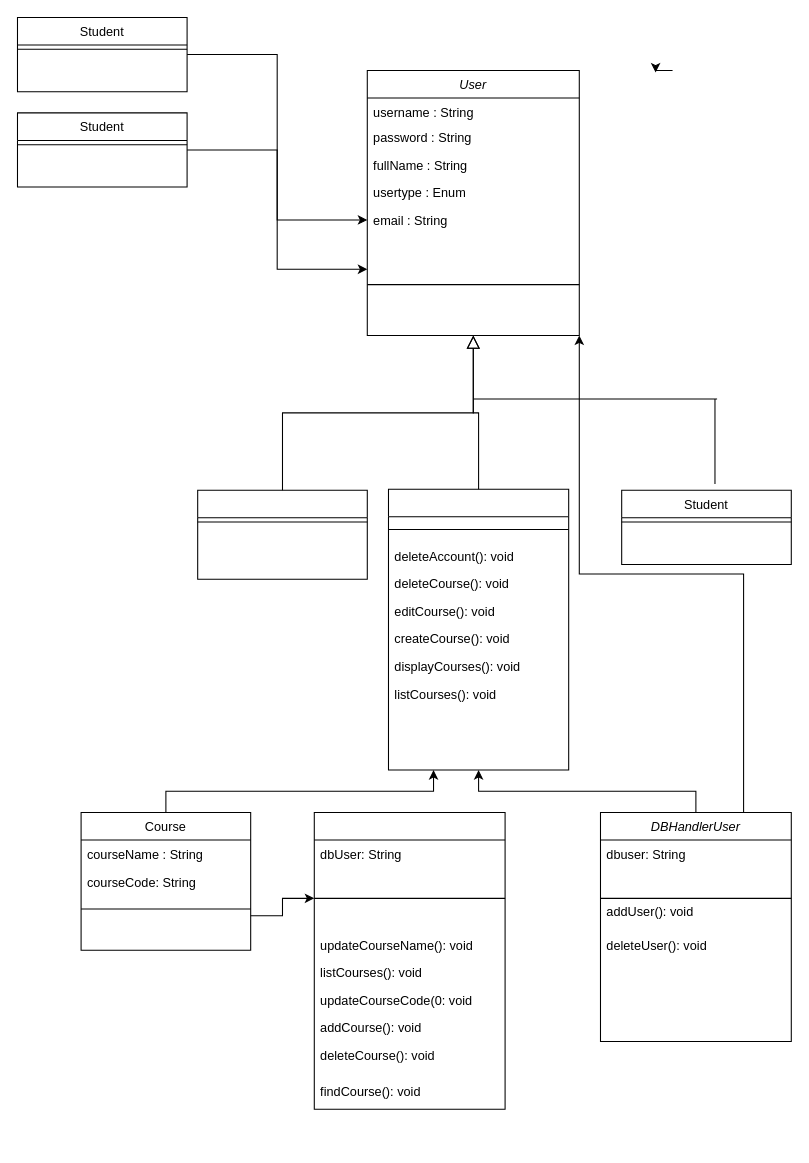
Image size: 809x1163. Some labels were removed from this diagram. Here are the shapes that lost their labels. From the top down, the box of each, then its label:
(197, 489, 367, 579): Instructor
(387, 488, 569, 770): Administrator
(313, 811, 505, 1109): DBHandlerCourse
